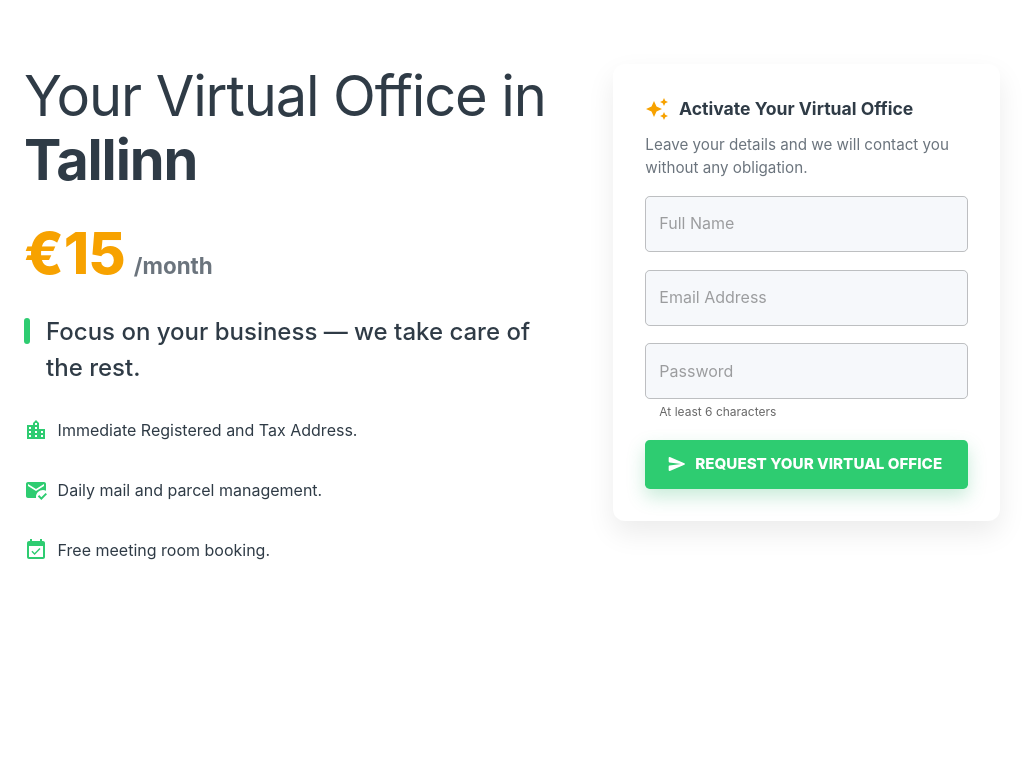
Test case: Register form › shows an error when the password is too short
Step 1. Type "Jose" into the field with placeholder "Full Name" → (807, 224), box [645,196,968,252]
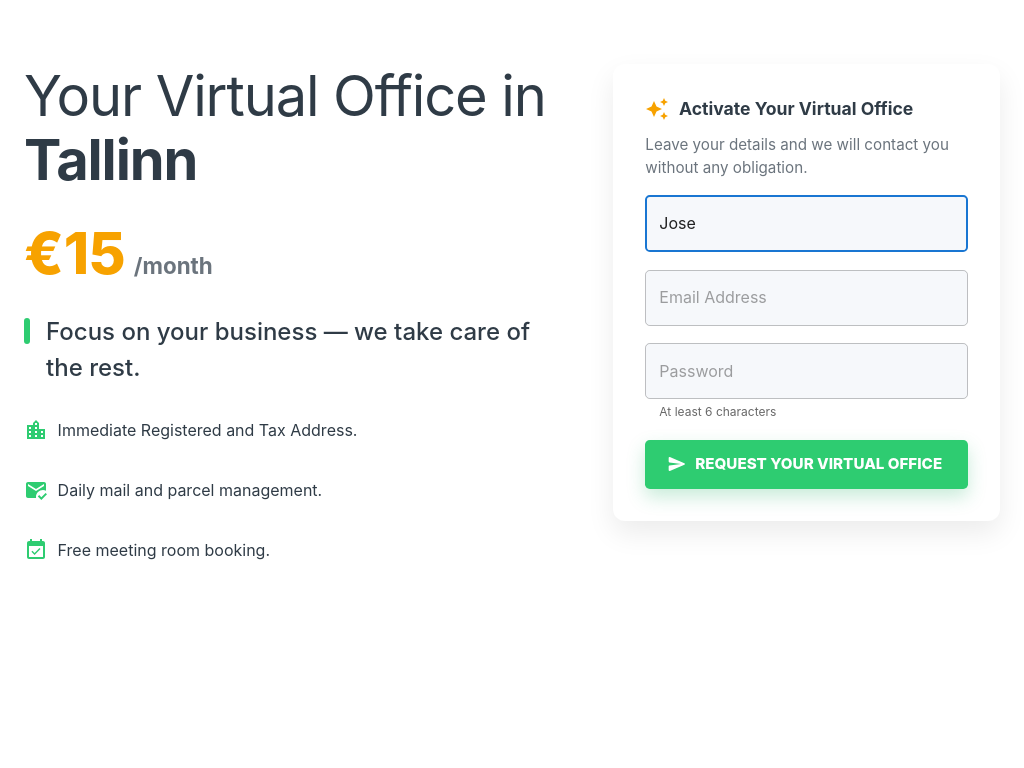
Step 2. Type "jose@x.com" into the field with placeholder "Email Address" → (807, 298), box [645,270,968,326]
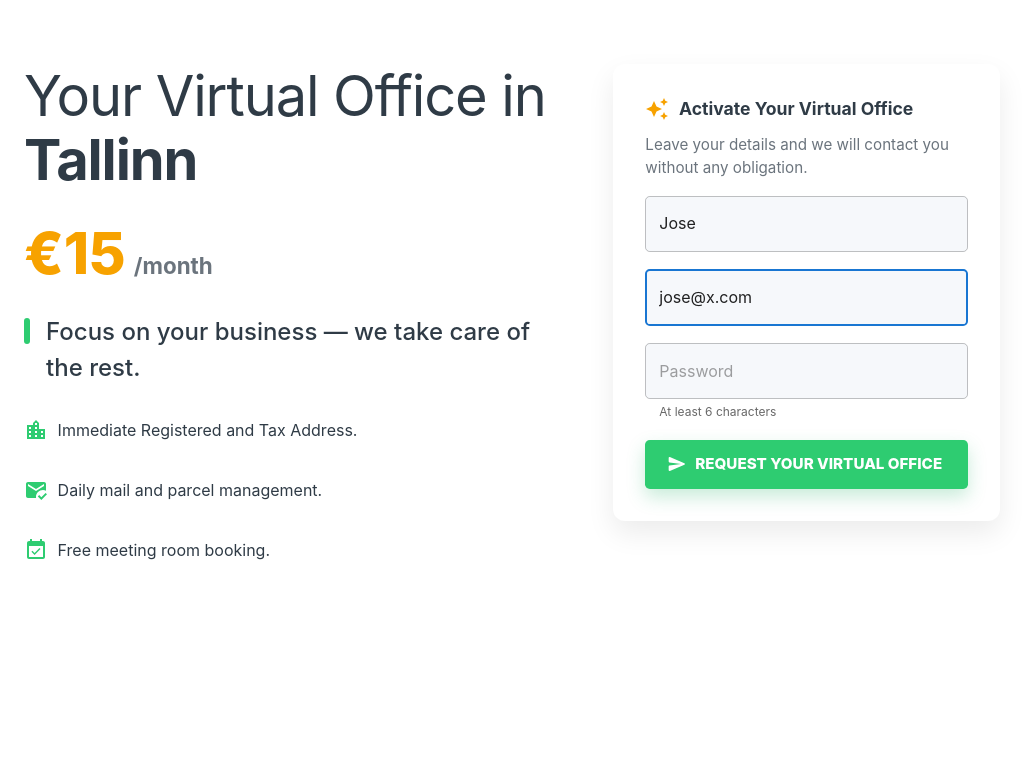
Step 3. Type "123" into the password field with placeholder "Password" → (807, 371), box [645,343,968,399]
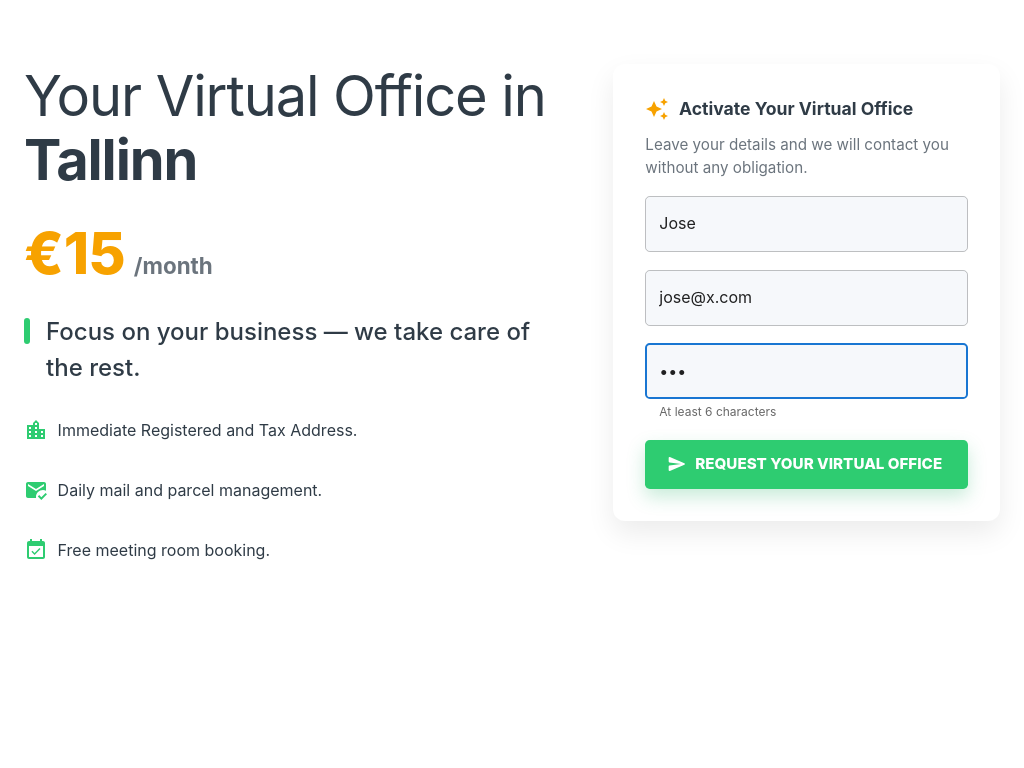
Step 4. Click the button "REQUEST YOUR VIRTUAL OFFICE" → (807, 464), box [645,440,968,489]
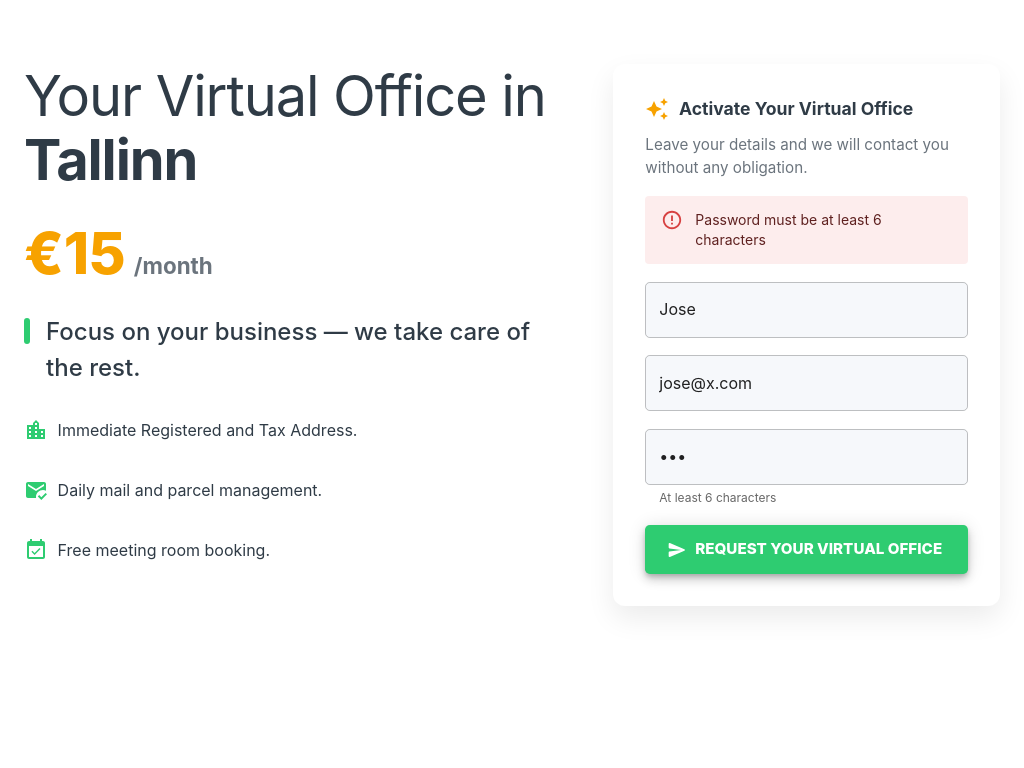
Result: the text "Password must be at least 6 characters" is shown at [695,211,882,248]
